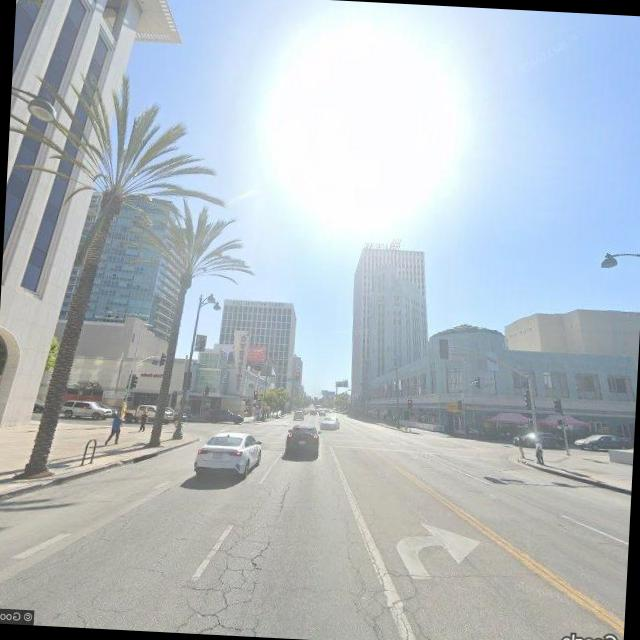crack: (164, 490, 292, 638), (334, 529, 450, 640), (388, 560, 532, 588), (276, 477, 294, 516)
